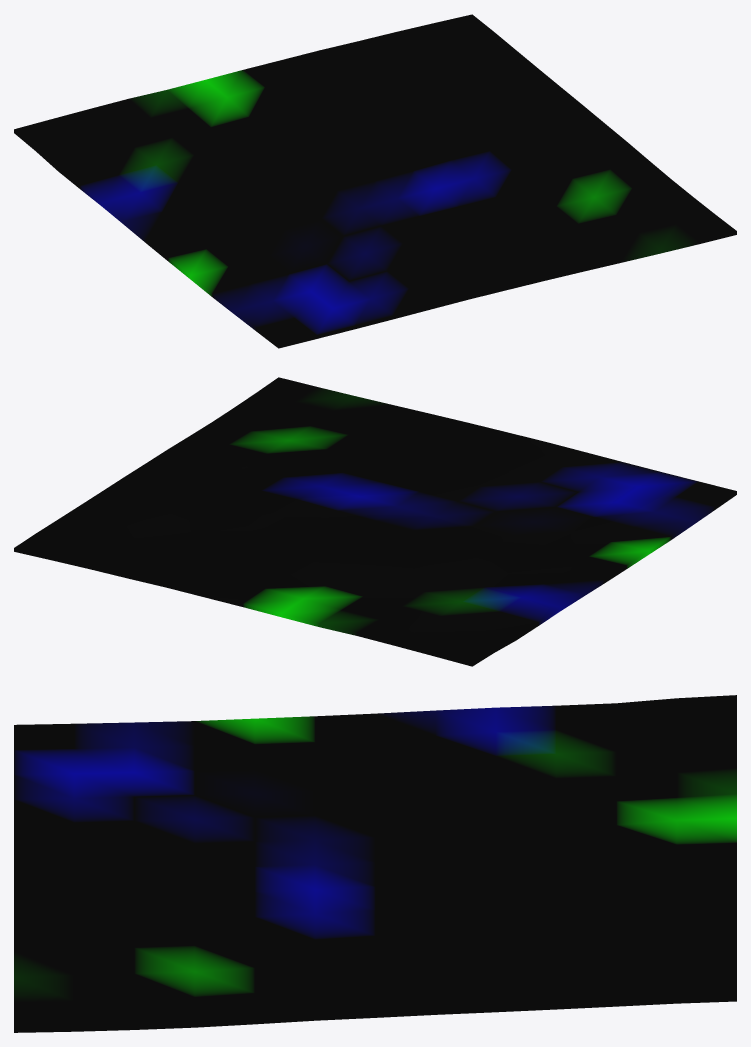
The model's file is coast_7_6.glb.
3 renders of one model, top to bottom at view 1: azimuth 30°, elevation 25°; view 2: azimuth 150°, elevation 25°; view 3: azimuth 270°, elevation 25°, orthographic. The views are drawn at different scales.
Parts seen in each view (by area): view 1: terrain; view 2: terrain; view 3: terrain.
Part boxes in pixels (x1,y1,x2,y2): terrain: (14, 14, 736, 348); terrain: (14, 377, 736, 666); terrain: (14, 695, 736, 1032).
Bounding box in the file's own units: 192 × 11.99 × 192.
